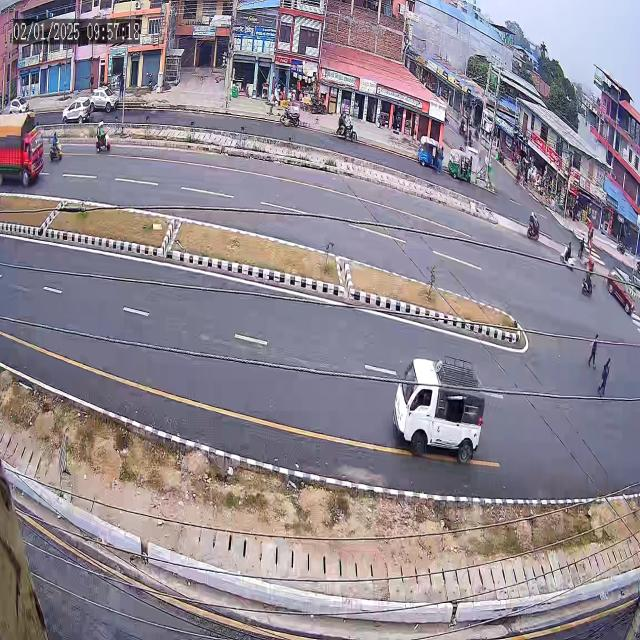car: (608, 260, 635, 326)
motorcycle: (519, 199, 544, 248), (93, 116, 115, 163), (48, 128, 68, 162)
van: (385, 338, 486, 483)
